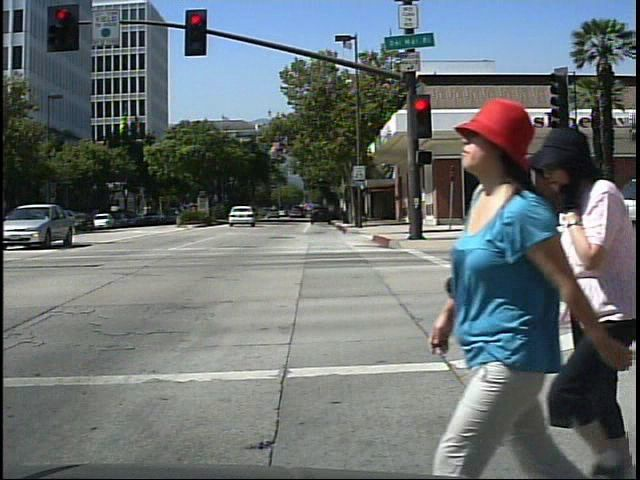person: (443, 73, 635, 480), (539, 119, 636, 479)
